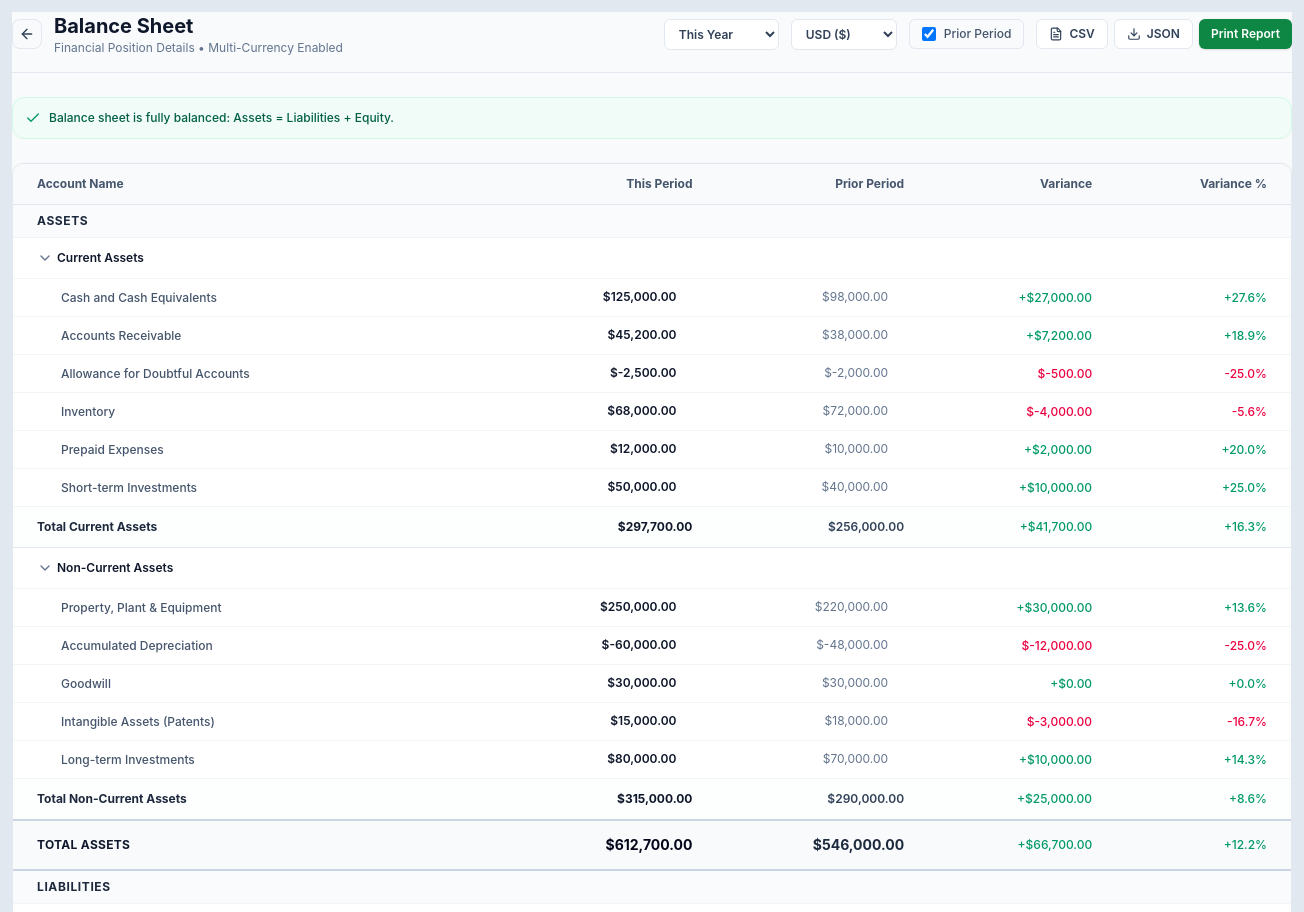
Test: BalanceSheet Component › collapses and expands categories when clicked
This screenshot has width=1304, height=912.
expect the text "Cash and Cash Equivalents" is shown: met, box x1=13 y1=278 x2=502 y2=316
# Collapse Current Assets
Click the text "Current Assets".
click(100, 258)  # box x1=13 y1=238 x2=502 y2=278
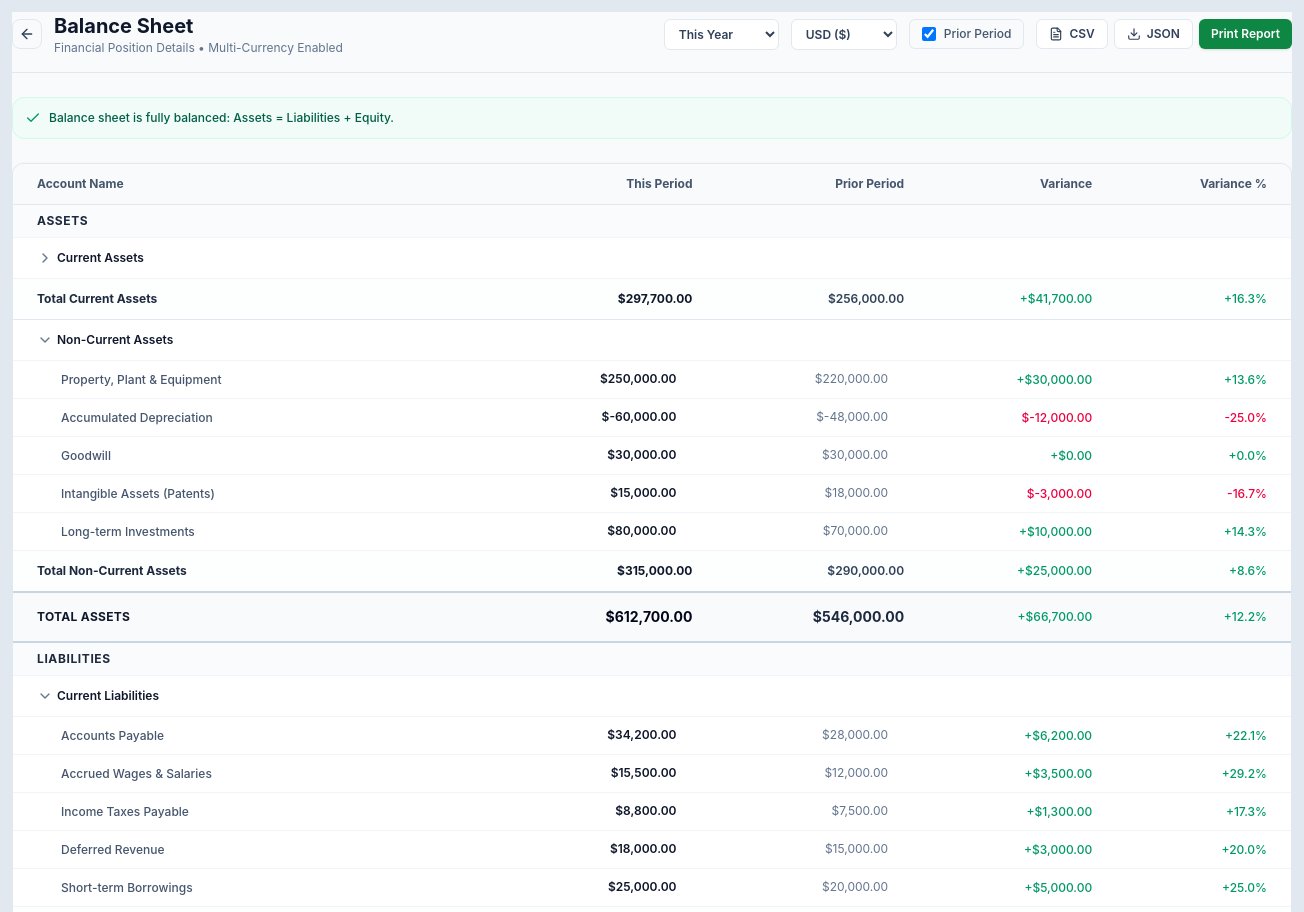
expect the text "Cash and Cash Equivalents" is gone: met
# Expand again
Click the text "Current Assets".
click(100, 258)  # box x1=13 y1=238 x2=502 y2=278
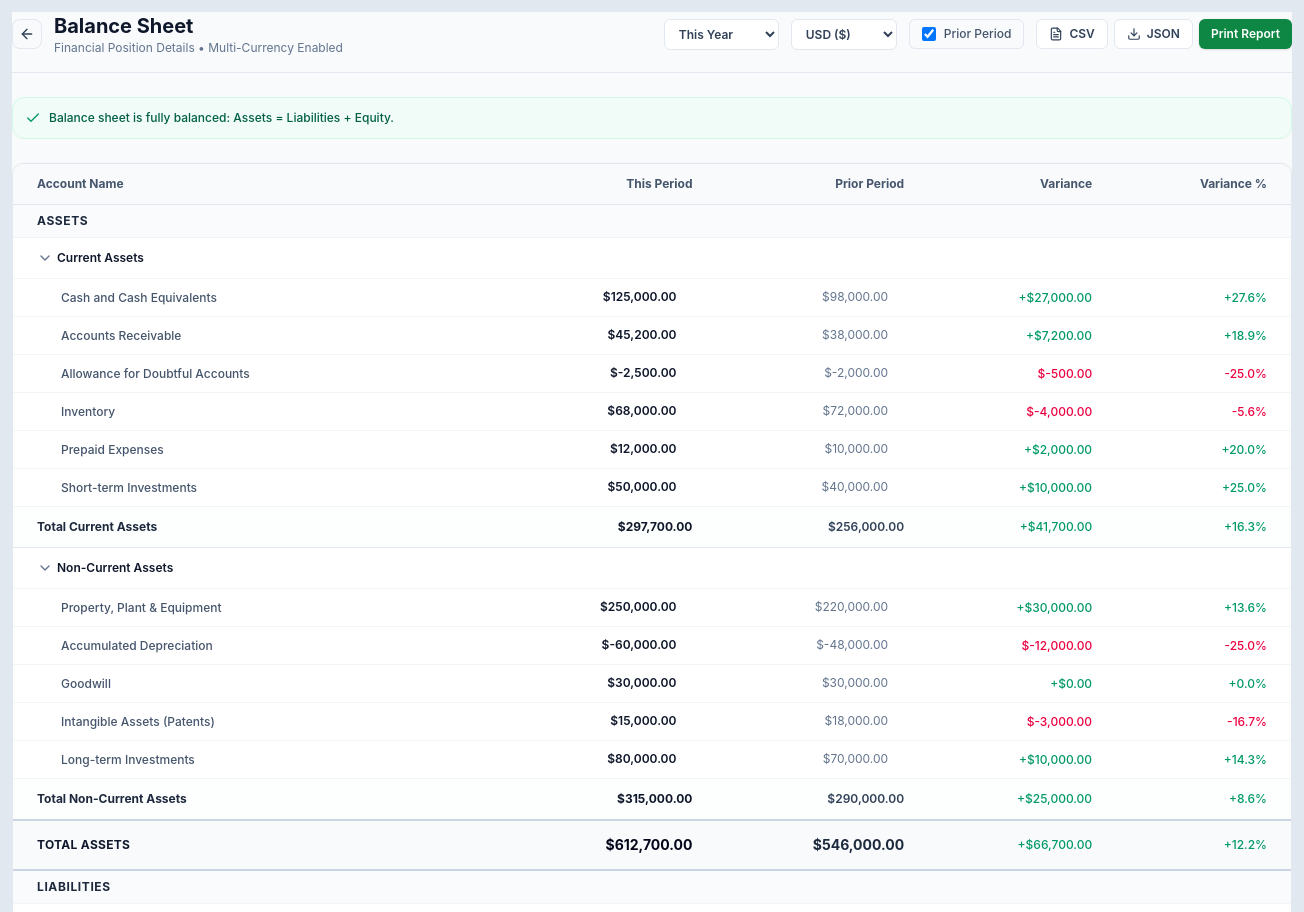
expect the text "Cash and Cash Equivalents" is shown: met, box x1=13 y1=278 x2=502 y2=316
